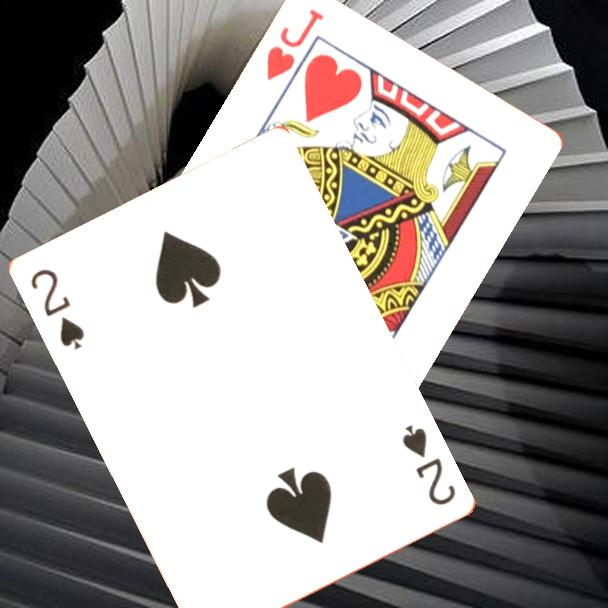h11: (262, 4, 327, 83)
s02: (399, 421, 460, 509), (27, 265, 88, 353)
